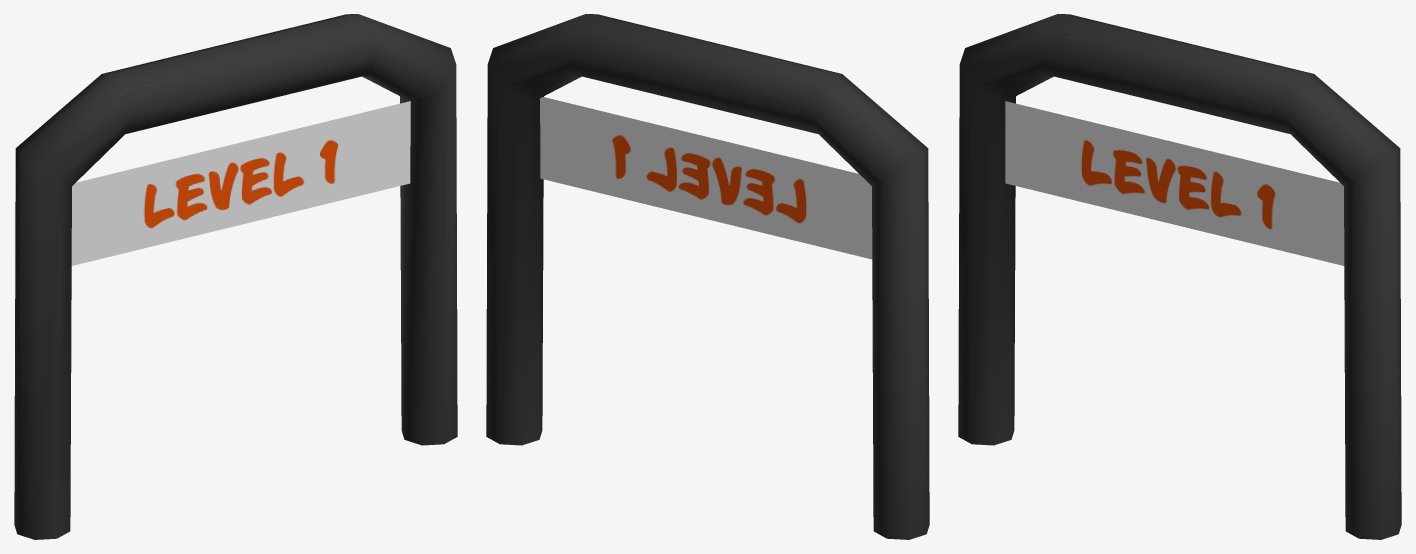
Rendered from Level 1.fbx.
The picture shows the model from 3 angles, left to right: view 1: azimuth 30°, elevation 25°; view 2: azimuth 150°, elevation 25°; view 3: azimuth 330°, elevation 25°; orthographic projection.
Parts seen in each view (by area): view 1: Finish_Line; view 2: Finish_Line; view 3: Finish_Line.
Boxes of the visible parts, <box> form: Finish_Line: <box>14,14,457,539</box>; Finish_Line: <box>486,14,929,539</box>; Finish_Line: <box>958,14,1401,539</box>.
Size of the model in its own units: 1273 by 1216 by 173.
Materials: 1 (1 with a texture image).
